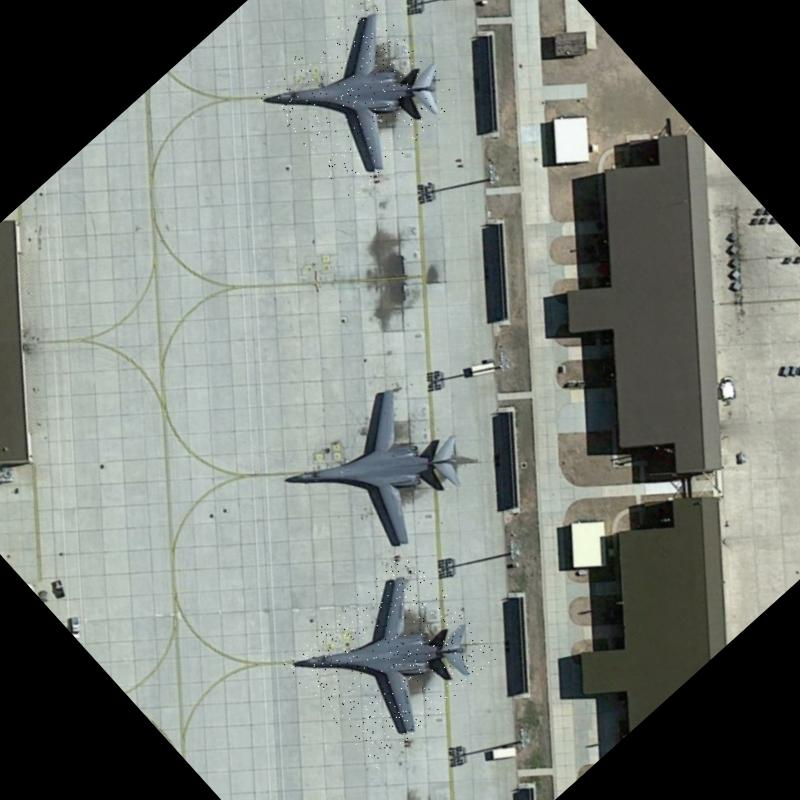A10: (268, 356, 489, 578), (280, 549, 503, 769), (254, 0, 462, 200)
